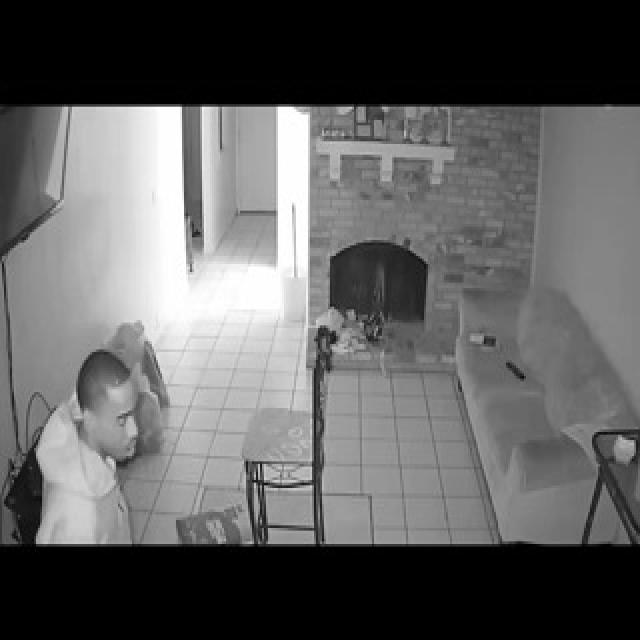thief: (58, 337, 163, 498)
